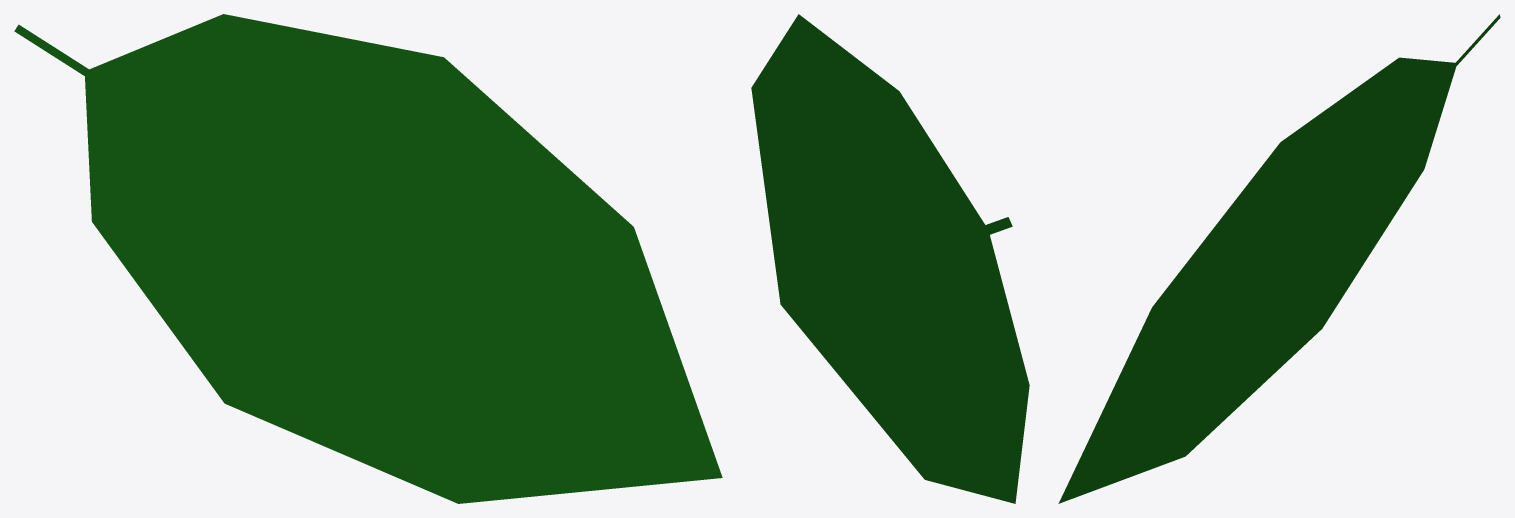
The model's file is Leaves.135.obj.
The picture shows the model from 3 angles, left to right: view 1: azimuth 30°, elevation 25°; view 2: azimuth 150°, elevation 25°; view 3: azimuth 270°, elevation 25°; orthographic projection. The views are drawn at different scales.
Parts seen in each view (by area): view 1: Leaves.135_leaves.135; view 2: Leaves.135_leaves.135; view 3: Leaves.135_leaves.135.
Part boxes in pixels (x1=…): Leaves.135_leaves.135: x1=14, y1=14, x2=722, y2=503; Leaves.135_leaves.135: x1=751, y1=14, x2=1029, y2=503; Leaves.135_leaves.135: x1=1058, y1=14, x2=1500, y2=503.
Size of the model in its own units: 0.092 by 0.0836 by 0.0944.
